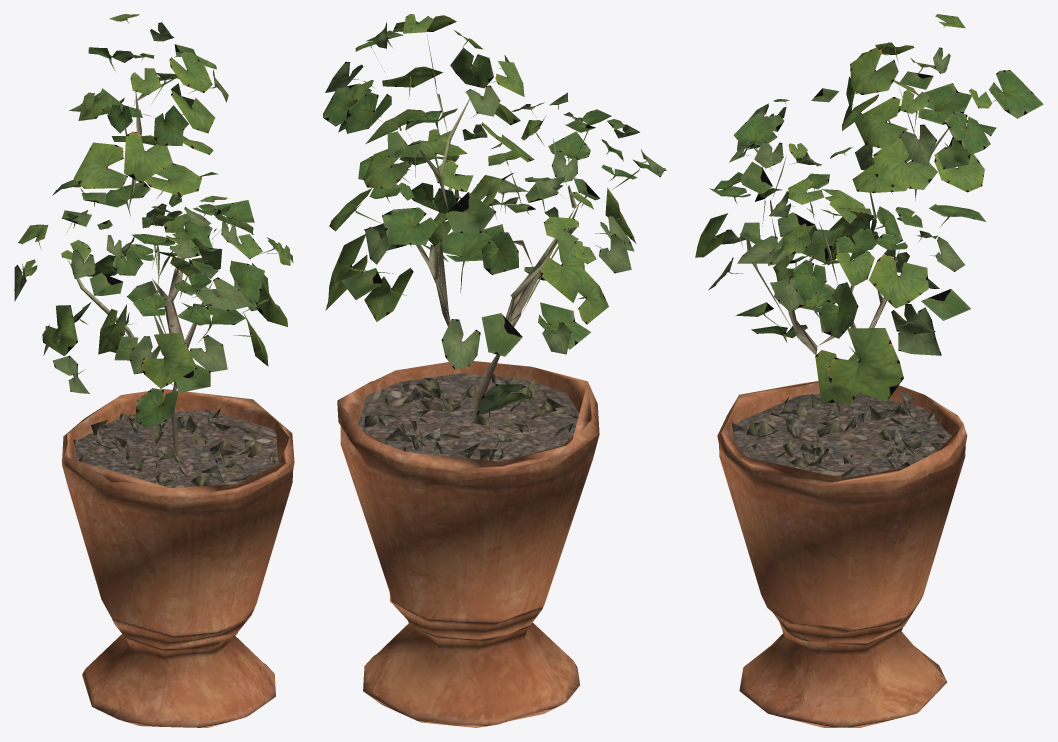
The model's file is pot.glb.
3 views of the same model, side by side, from view 1: azimuth 30°, elevation 25°; view 2: azimuth 150°, elevation 25°; view 3: azimuth 270°, elevation 25° (orthographic). The views are drawn at different scales.
Visible parts, largest first — view 1: potted_plant_01_stem, potted_plant_01_leaves; view 2: potted_plant_01_stem, potted_plant_01_leaves; view 3: potted_plant_01_stem, potted_plant_01_leaves.
Part boxes in pixels (x1,y1,x2,y2): potted_plant_01_stem: (62,91,294,727); potted_plant_01_leaves: (14,14,293,427); potted_plant_01_stem: (337,89,599,727); potted_plant_01_leaves: (323,14,666,415); potted_plant_01_stem: (717,87,967,727); potted_plant_01_leaves: (695,14,1043,402).
Bounding box in the file's own units: 0.5775 × 1.33 × 0.6293.
2 materials, 2 textured.
